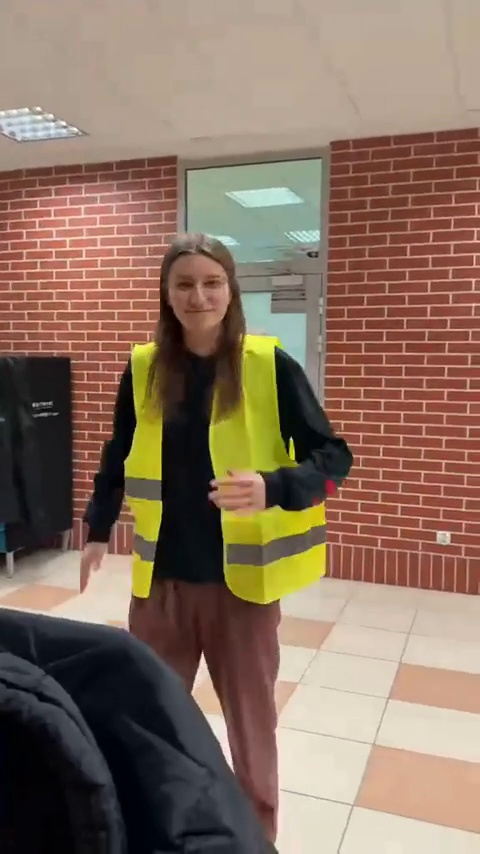vest: (72, 228, 342, 852)
